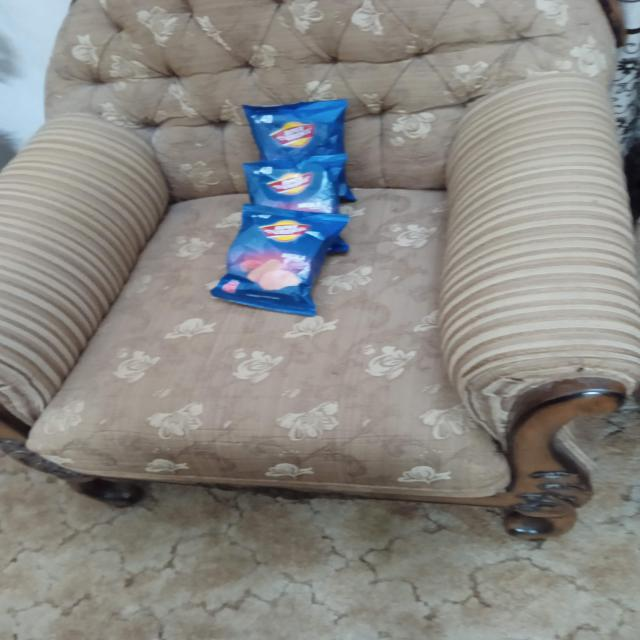Plastic: (225, 210, 338, 312), (252, 103, 347, 163), (250, 163, 349, 211)
